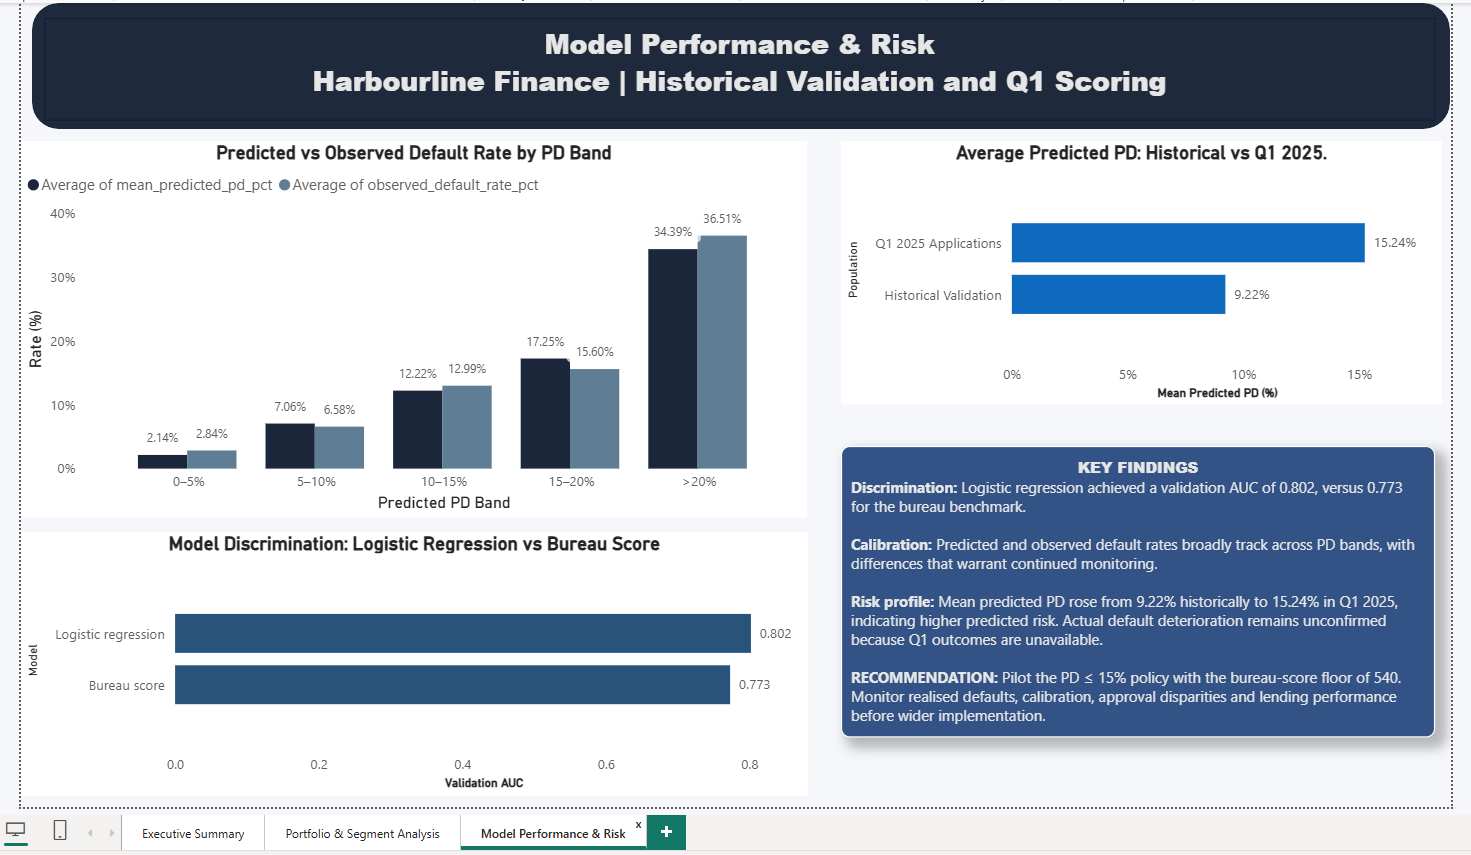

The dashboard page shown, as its layout file describes it:
{"tool":"powerbi","page":{"name":"Model Performance & Risk","canvas":[1280,720],"ordinal":2},"visuals":[{"type":"shape","box":[9.9,0,1269.9,112.8],"z":0},{"type":"textbox","box":[20.6,13.4,1245.7,92.2],"z":1000},{"type":"lineClusteredColumnComboChart","title":"Predicted vs Observed Default Rate by PD Band","fields":{"Category":["overall_pd_band_calibration.pd_band"],"Y":["Avg(overall_pd_band_calibration.mean_predicted_pd_pct)","Avg(overall_pd_band_calibration.observed_default_rate_pct)"]},"box":[0,123.6,703.9,336.7],"z":2000},{"type":"clusteredBarChart","title":"Model Discrimination: Logistic Regression vs Bureau Score","fields":{"Category":["Model_Auc_Comparison.Model"],"Y":["Avg(Model_Auc_Comparison.AUC)"]},"box":[0,473.7,704.8,235.5],"z":3000},{"type":"clusteredBarChart","title":"Average Predicted PD: Historical vs Q1 2025.","fields":{"Category":["Population_PD_Comparison.Population"],"Y":["Avg(Population_PD_Comparison.Mean Predicted PD(%))"]},"box":[734.3,123.6,538.2,236.4],"z":4000},{"type":"textbox","box":[734.3,396.7,531.9,260.6],"z":4001}]}

Visuals, with their boxes on the page's 1280x720 design canvas (x1, y1, x2, y2). These are canvas units, not pixel positions in the 1471x855 screenshot, which may show the page scaled, cropped or inside an application window:
shape: detection(10, 0, 1280, 113)
textbox: detection(21, 13, 1266, 106)
"Predicted vs Observed Default Rate by PD Band" lineClusteredColumnComboChart: detection(0, 124, 704, 460)
"Model Discrimination: Logistic Regression vs Bureau Score" clusteredBarChart: detection(0, 474, 705, 709)
"Average Predicted PD: Historical vs Q1 2025." clusteredBarChart: detection(734, 124, 1272, 360)
textbox: detection(734, 397, 1266, 657)
